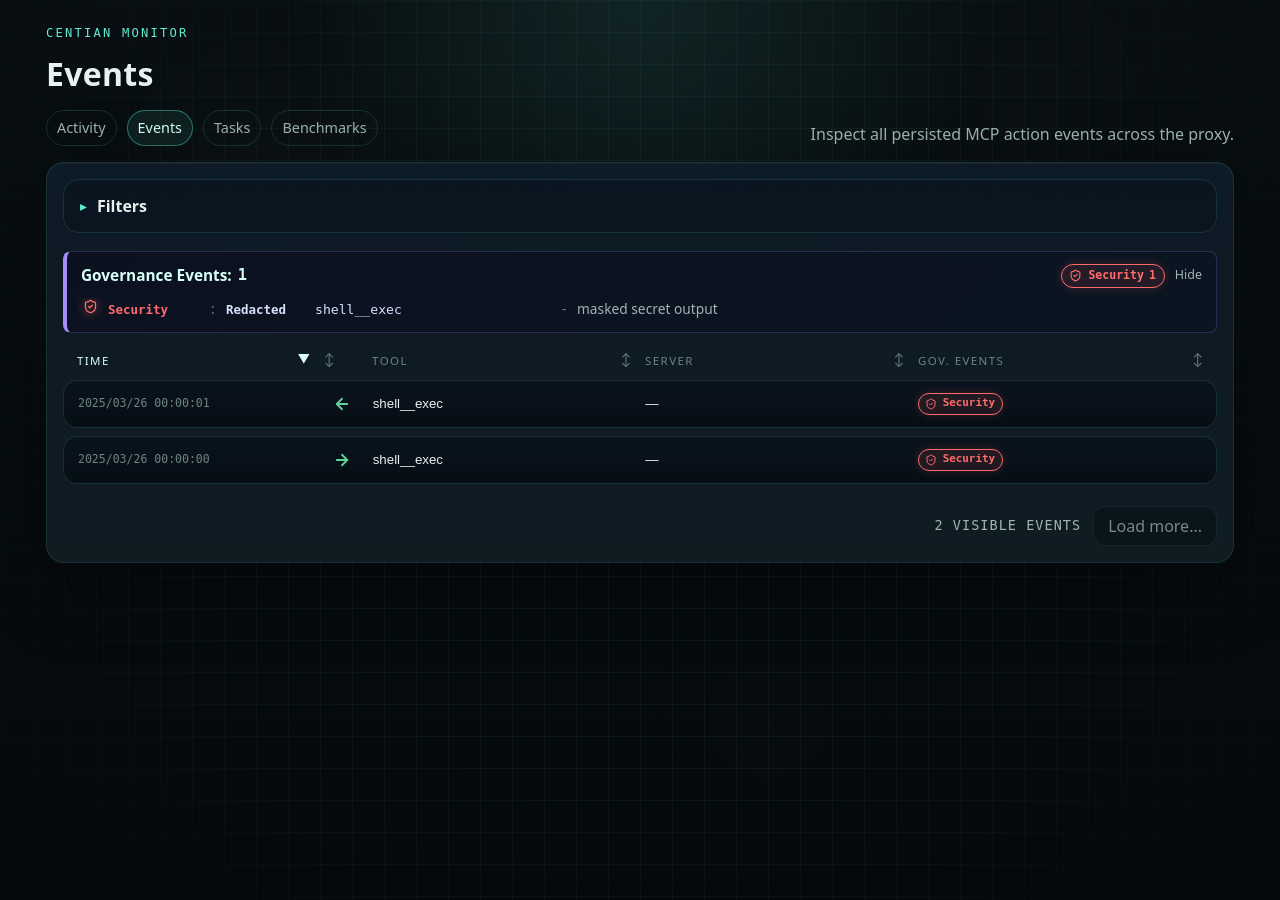
Test: event list › collapses repeated governance annotations for the same request id
Expected: the element titled "Security: 1" is shown, top-left (1061, 264), bottom-right (1165, 288)
Click the button "Governance Events: 1 Security 1 Hide": (156, 276) top-left (67, 252), bottom-right (1216, 298)
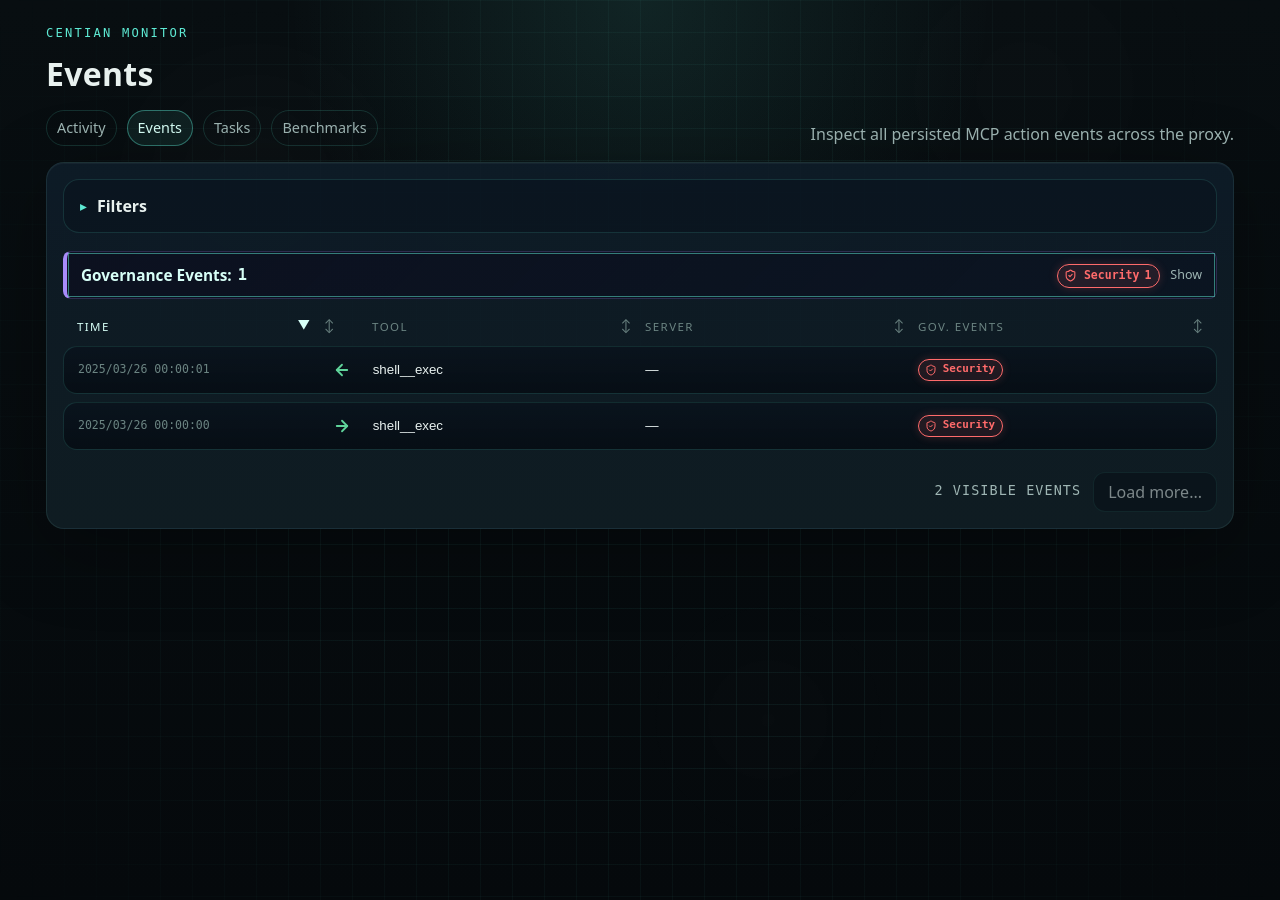
Expected: the element titled "Security: 1" is shown, top-left (1057, 264), bottom-right (1160, 288)
Now the text "masked secret output" is gone
